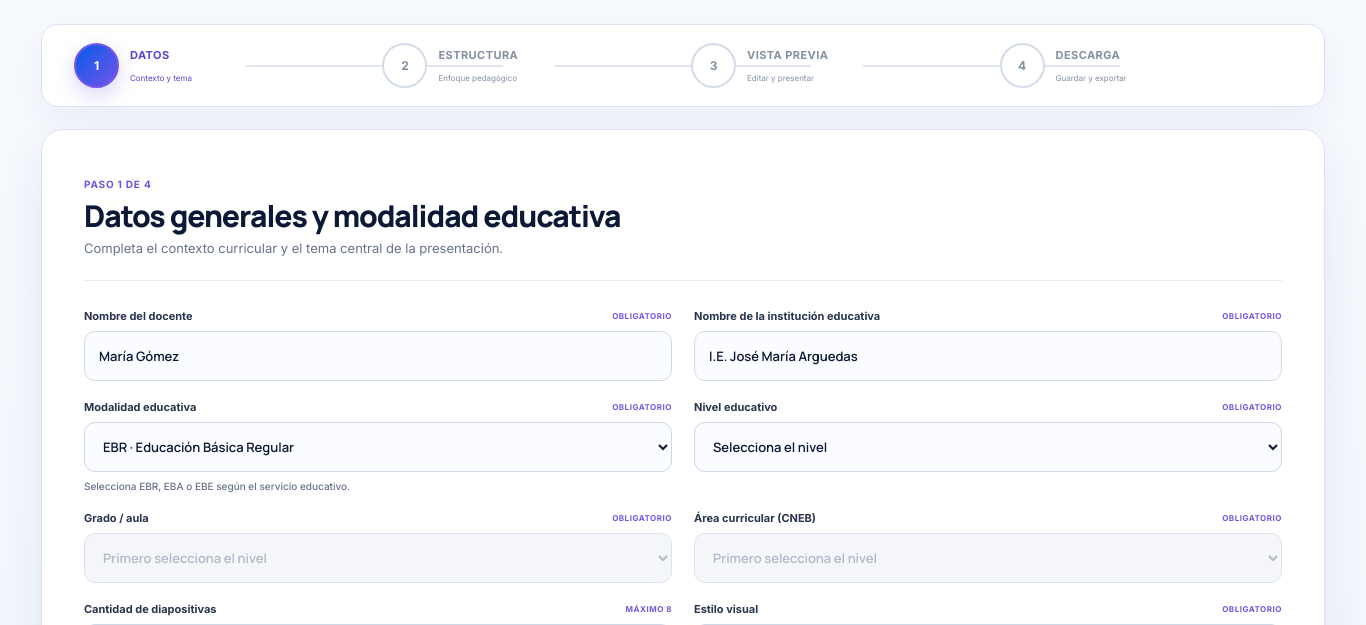
Test: PresentationTool › reproduces the dependent curricular filters and pedagogical step
Expected: the heading "Datos generales y modalidad educativa" is shown, [84,195,620,236]
Expected: the dropdown labelled "Grado / aula Obligatorio" is disabled, [84,533,672,583]
Select "Primaria" in the dropdown labelled "Nivel educativo Obligatorio": (988, 447) [694,422,1282,472]
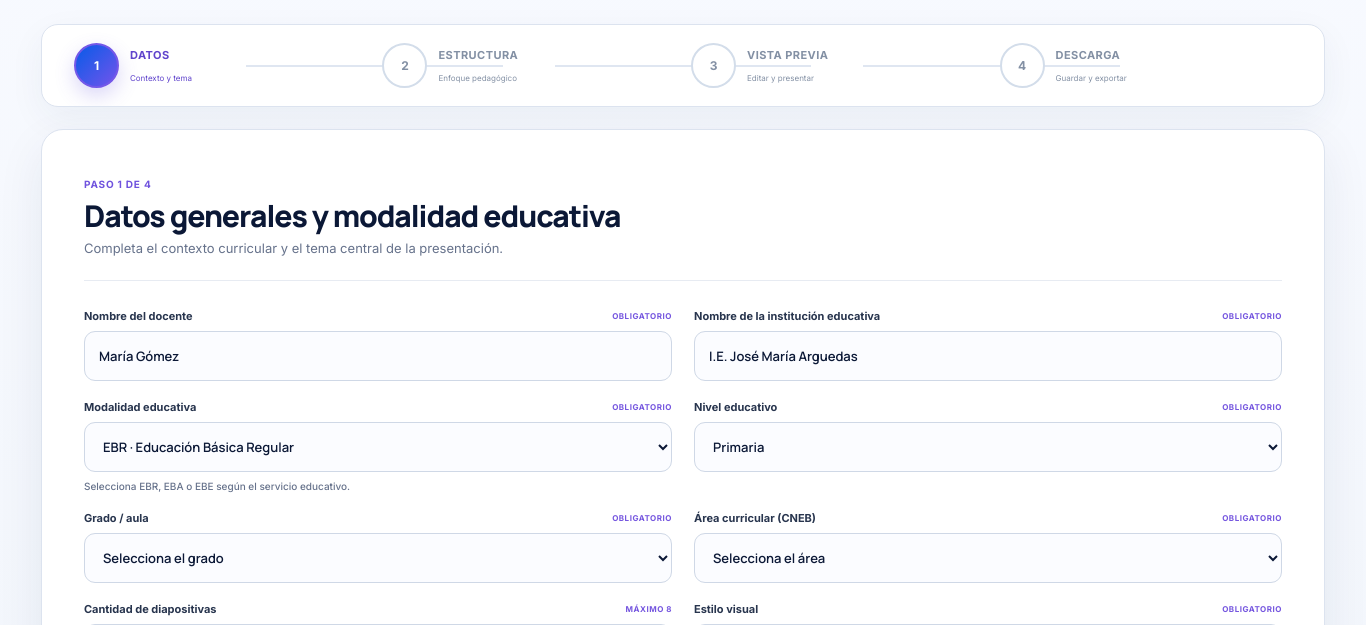
Expected: the dropdown labelled "Grado / aula Obligatorio" is enabled
Expected: the dropdown labelled "Área curricular (CNEB) Obligatorio" is enabled, [694,533,1282,583]
Select "4° de Primaria" in the dropdown labelled "Grado / aula Obligatorio": (378, 558) [84,533,672,583]
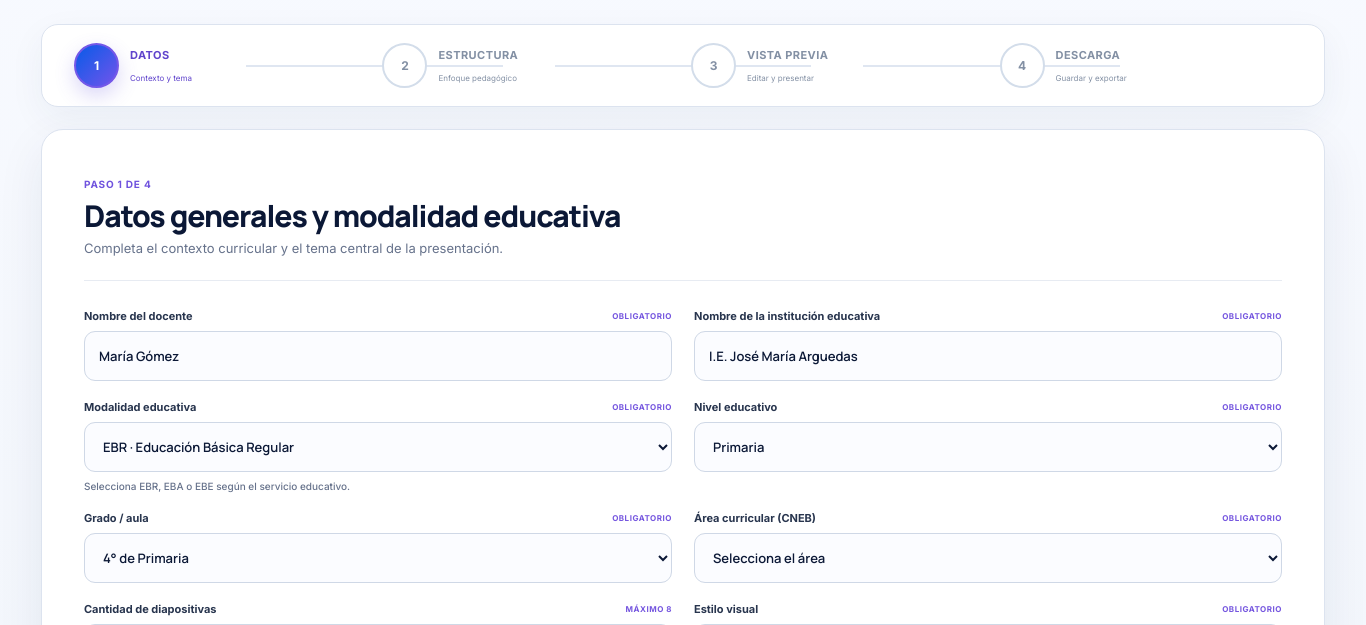
Select "Comunicación" in the dropdown labelled "Área curricular (CNEB) Obligatorio": (988, 558) [694,533,1282,583]
(page scrolled)
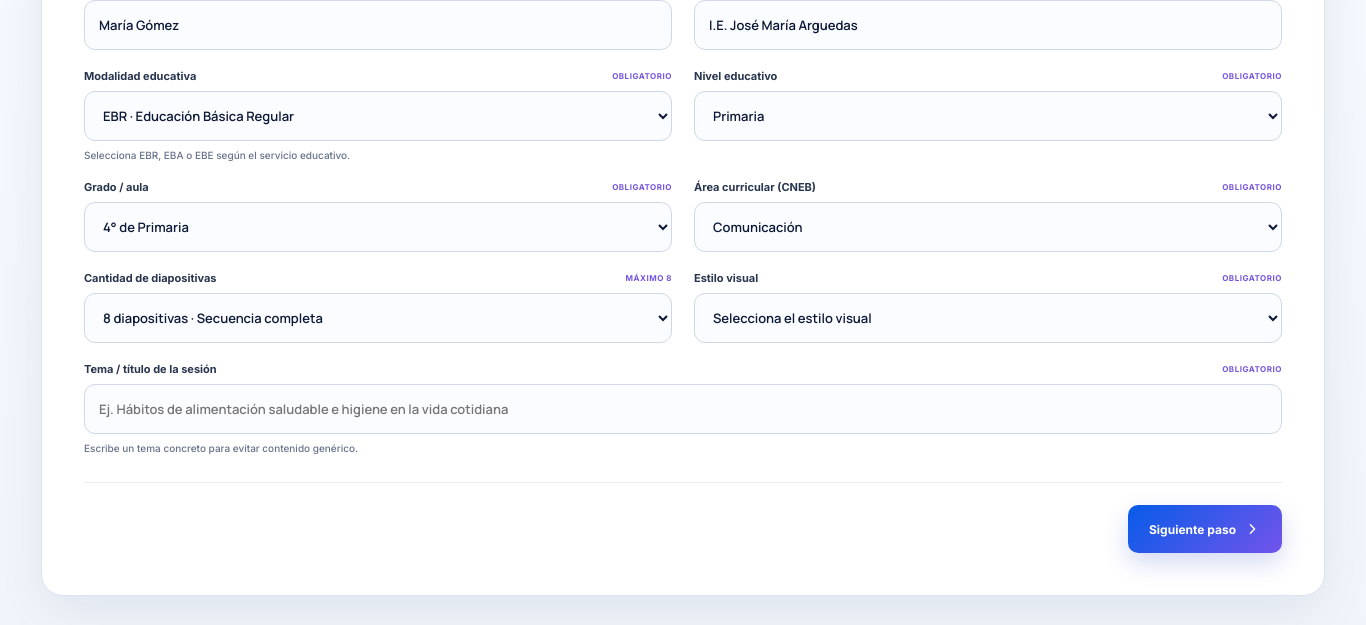
Select "Infográfico / Visual HD" in the dropdown labelled "Estilo visual Obligatorio": (988, 318) [694,293,1282,343]
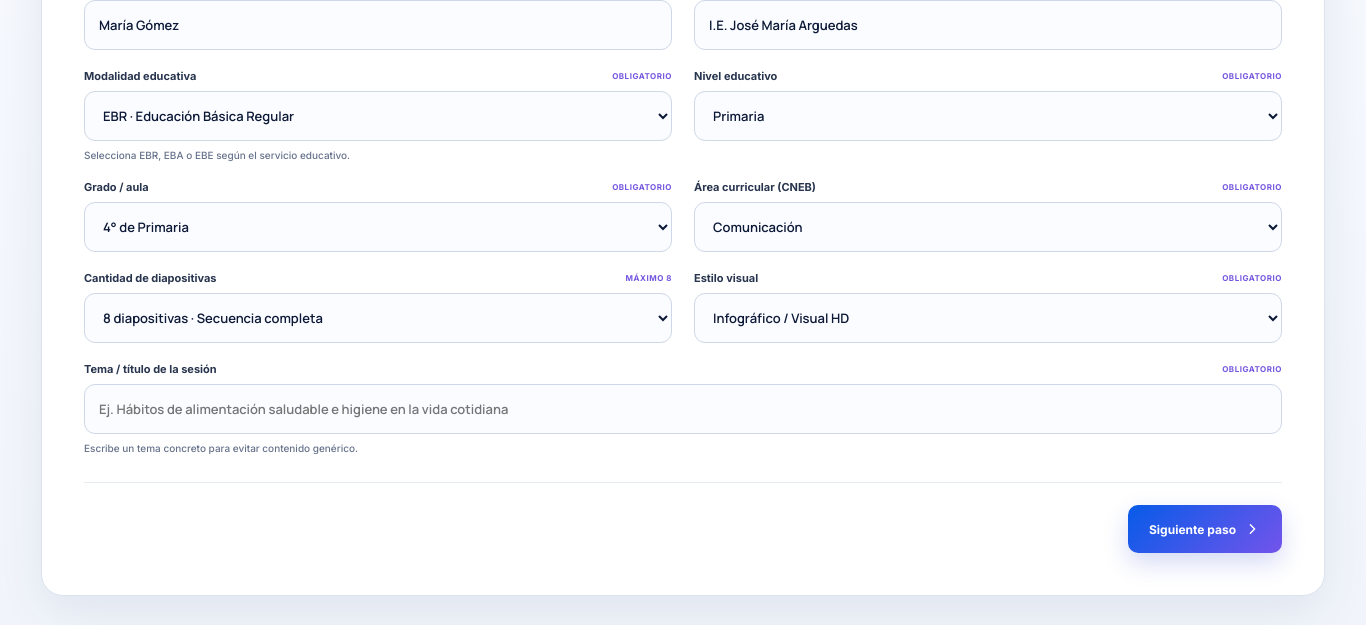
Replace the text in the field labelled "Tema / título de la sesión" with "Leemos noticias de nuestra comunidad": (683, 409) [84,384,1282,434]
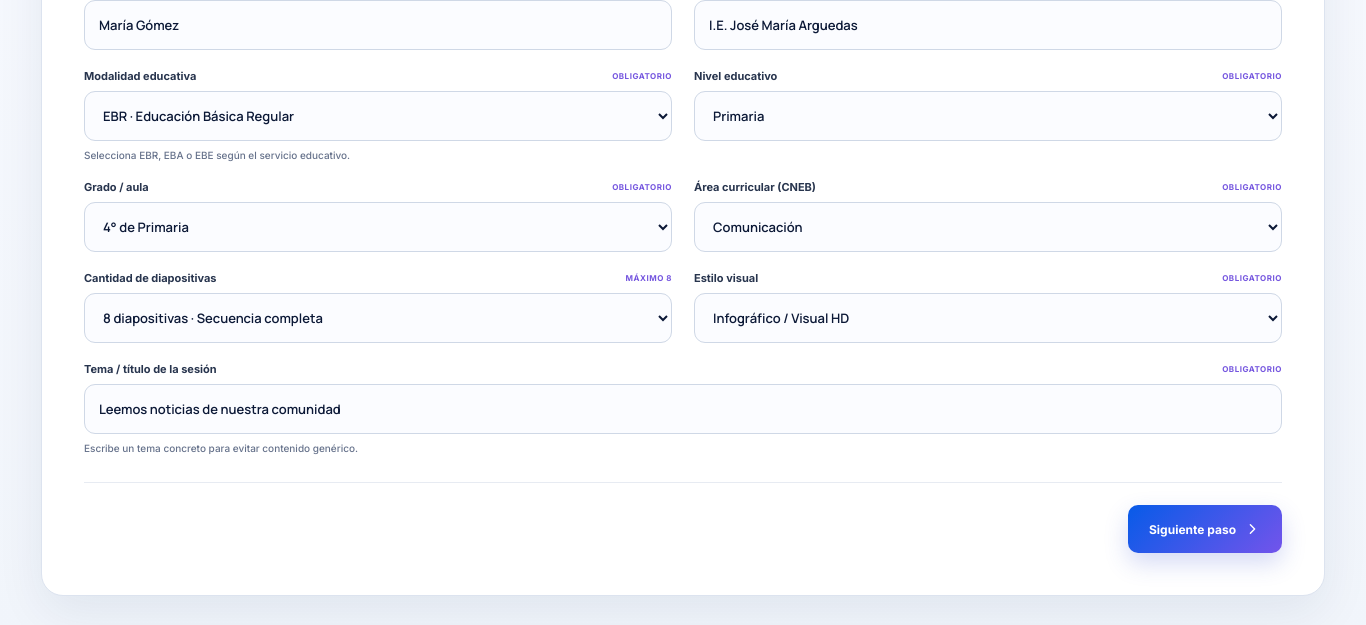
Click the button "Siguiente paso": (1205, 529) [1128,505,1282,553]
(page scrolled)
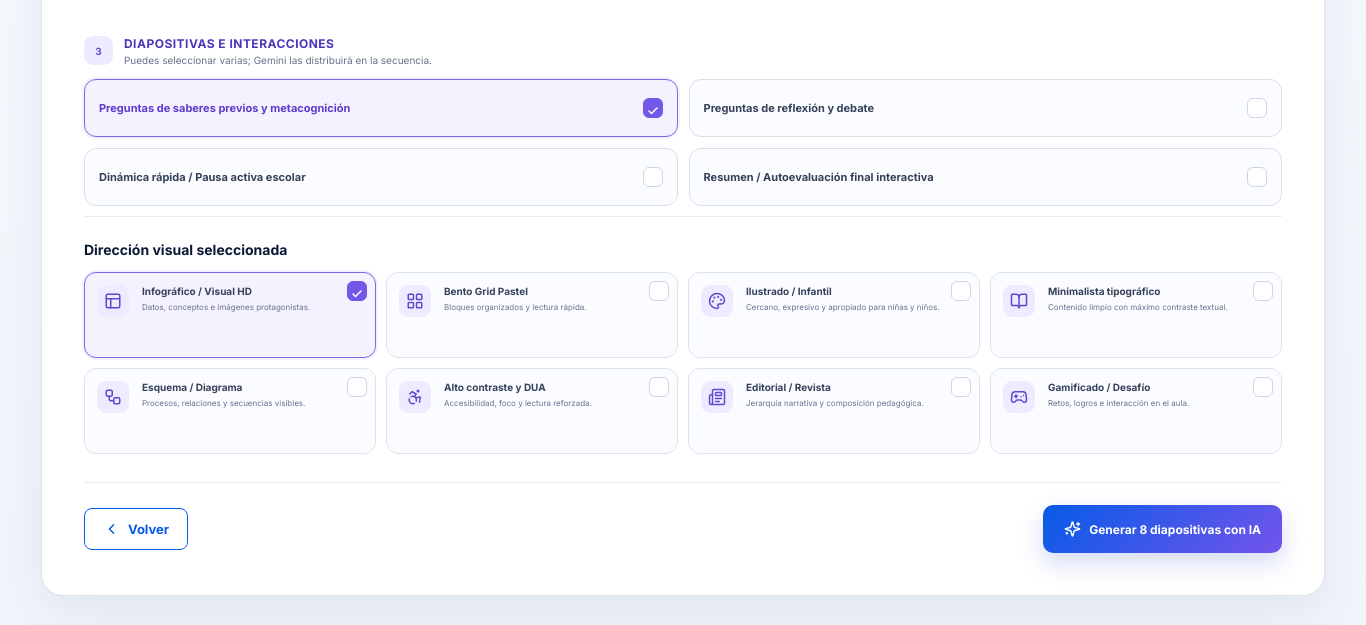
Expected: the text "Preguntas de reflexión y debate" is shown, [704,101,874,116]
Expected: the text "Alto contraste y DUA" is shown, [444,381,546,393]
